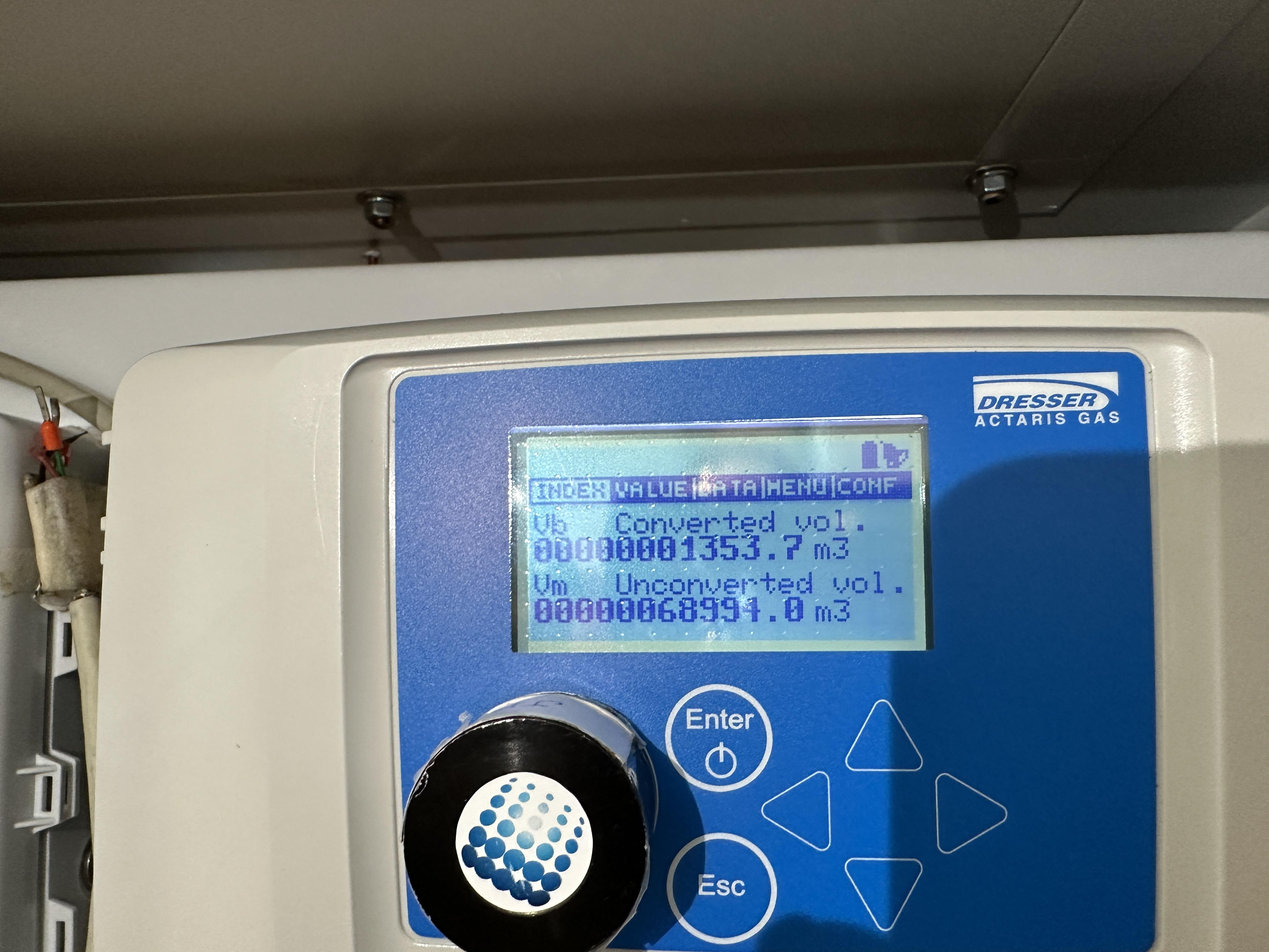digital_screen: (511, 434, 926, 662)
